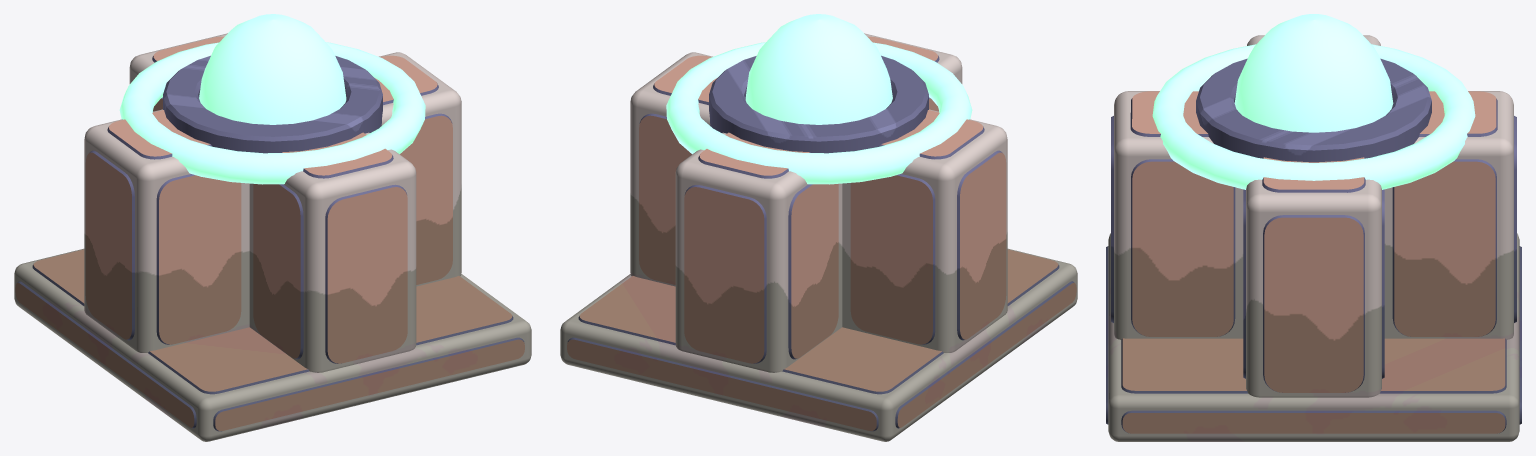
Rendered from R4X_RepairPulse.glb.
3 views of the same model, side by side, from view 1: azimuth 30°, elevation 25°; view 2: azimuth 150°, elevation 25°; view 3: azimuth 270°, elevation 25° (orthographic). The views are drawn at different scales.
Parts seen in each view (by area): view 1: R4X_RepairPulse_Body; view 2: R4X_RepairPulse_Body; view 3: R4X_RepairPulse_Body.
Part boxes in pixels (x1,y1,x2,y2): R4X_RepairPulse_Body: (14,14,531,441); R4X_RepairPulse_Body: (560,14,1077,441); R4X_RepairPulse_Body: (1106,14,1521,441).
Bounding box in the file's own units: 0.52 × 0.4704 × 0.52.
Materials: 4 (3 with a texture image).
